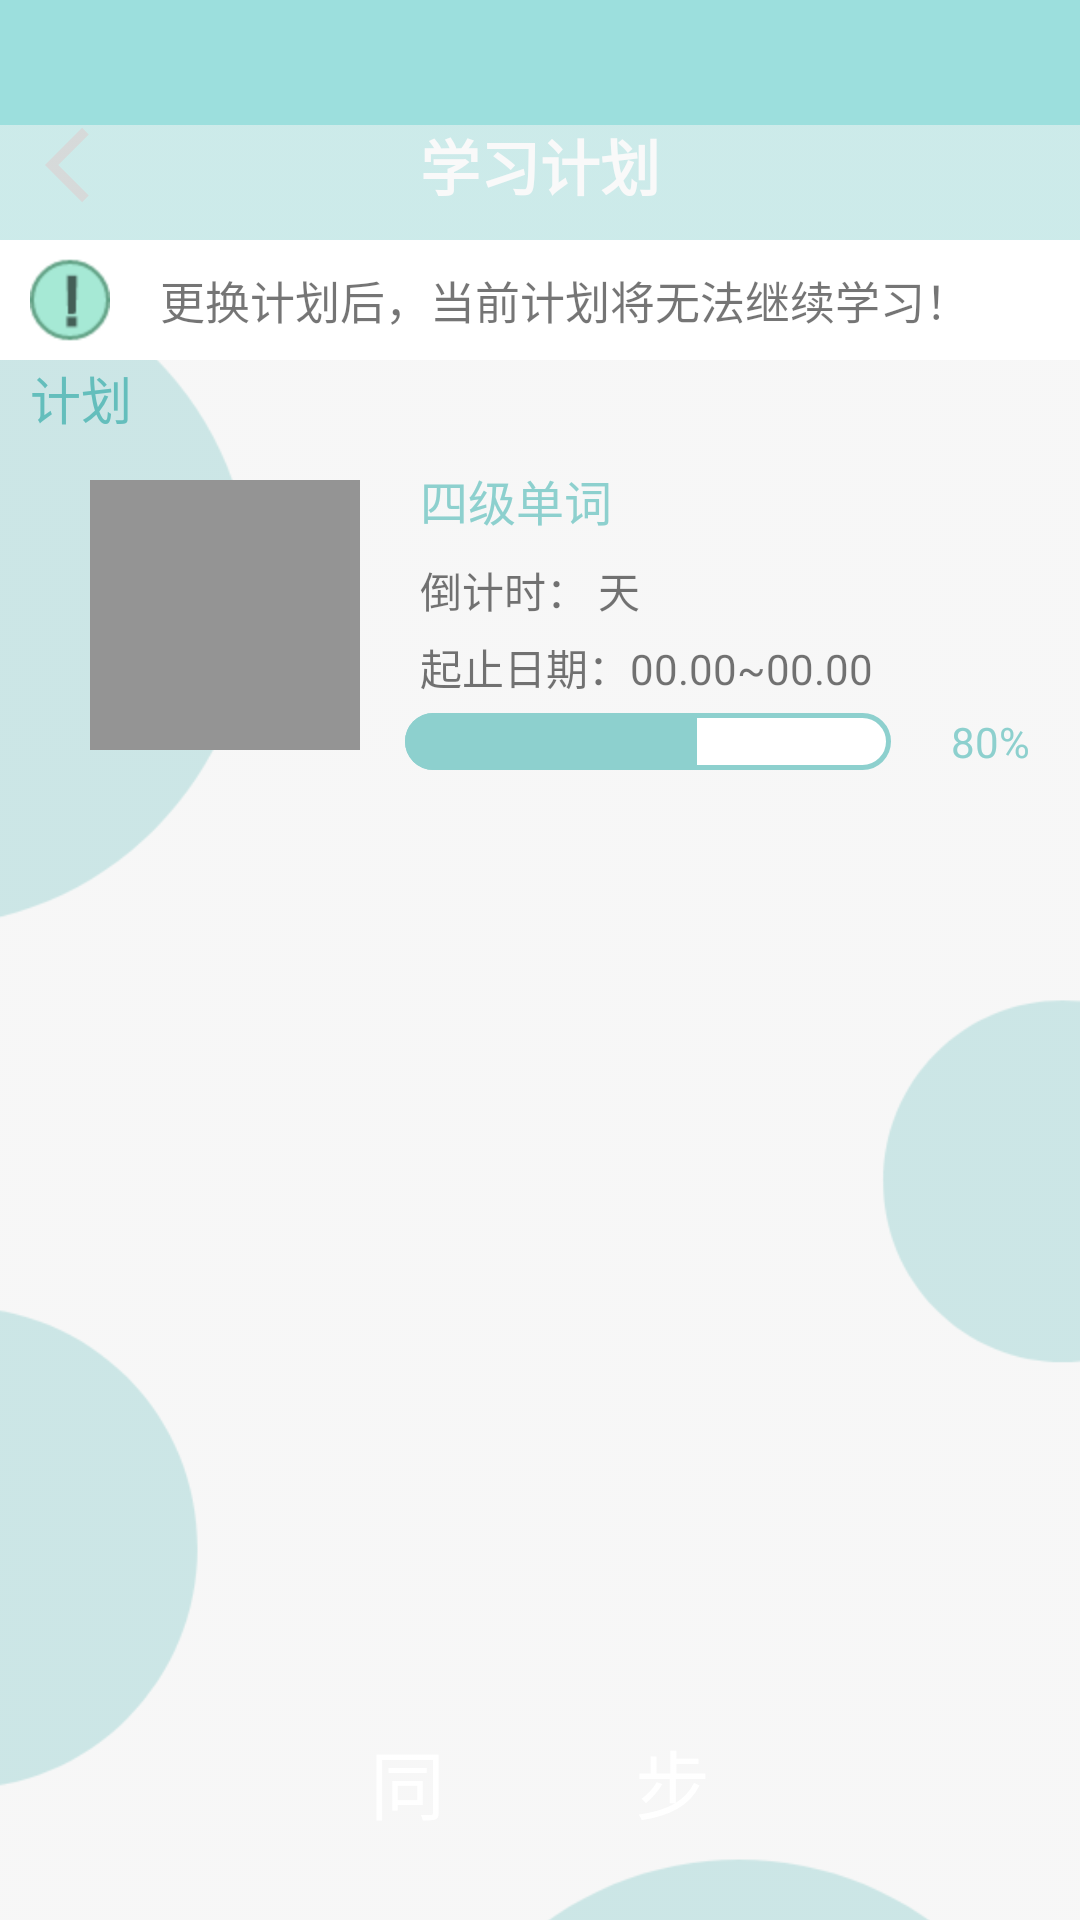

Locate icon controls on the screen. Image size 1080 × 1920, boxes as (x1, y1, x2, y2).
gantanhao: (30, 259, 110, 341)
